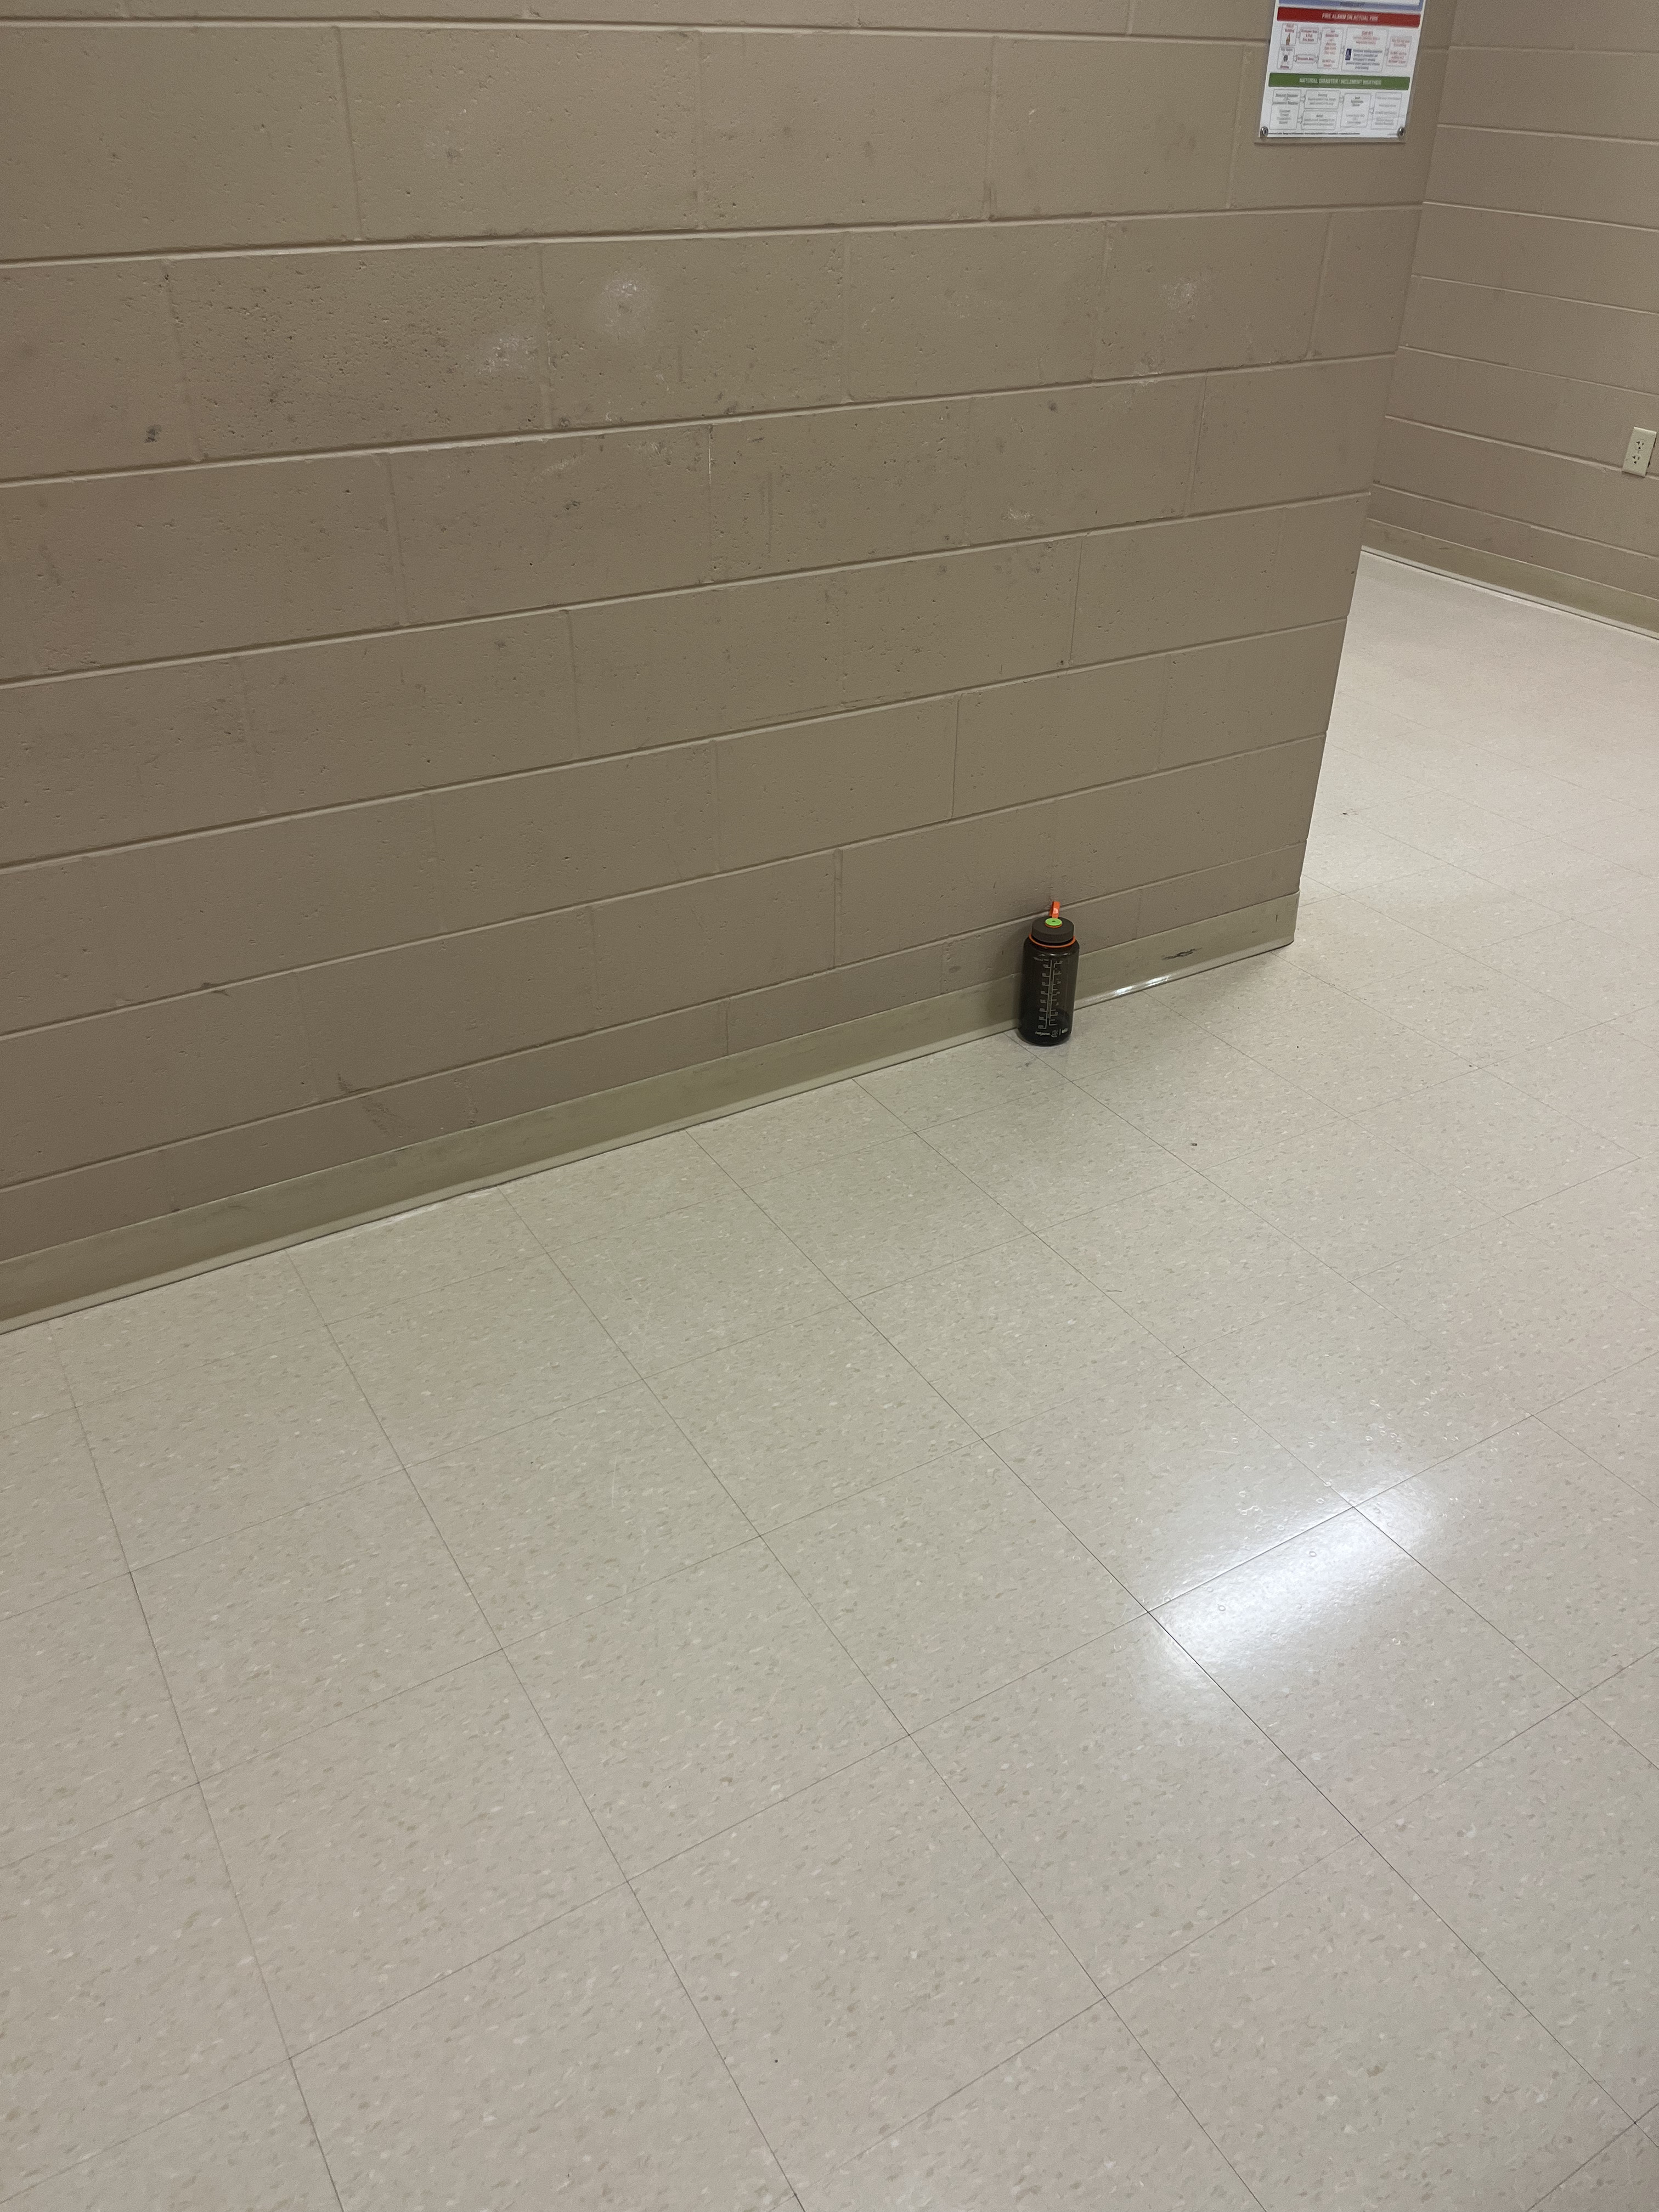bottle: (1014, 887, 1084, 1054)
